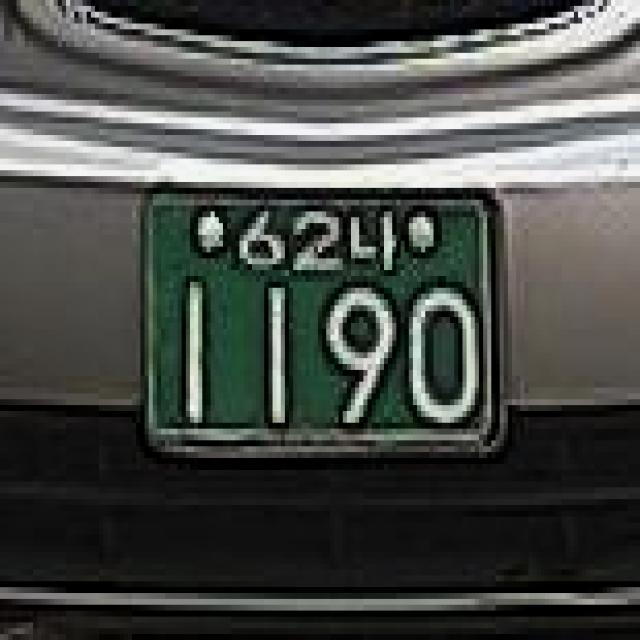illegal_plate: (126, 164, 519, 482)
